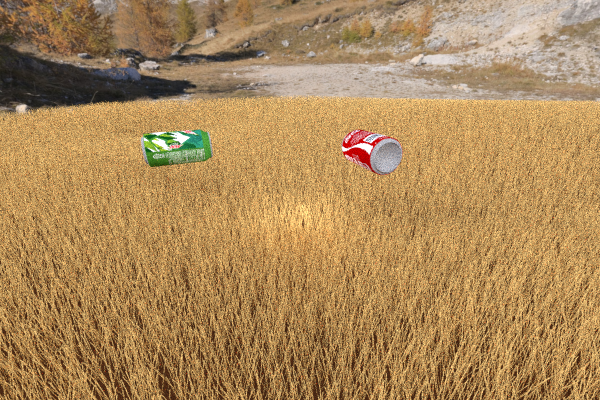Plastic Bottle: (189, 109, 273, 150), (341, 129, 402, 175), (140, 129, 212, 167)
